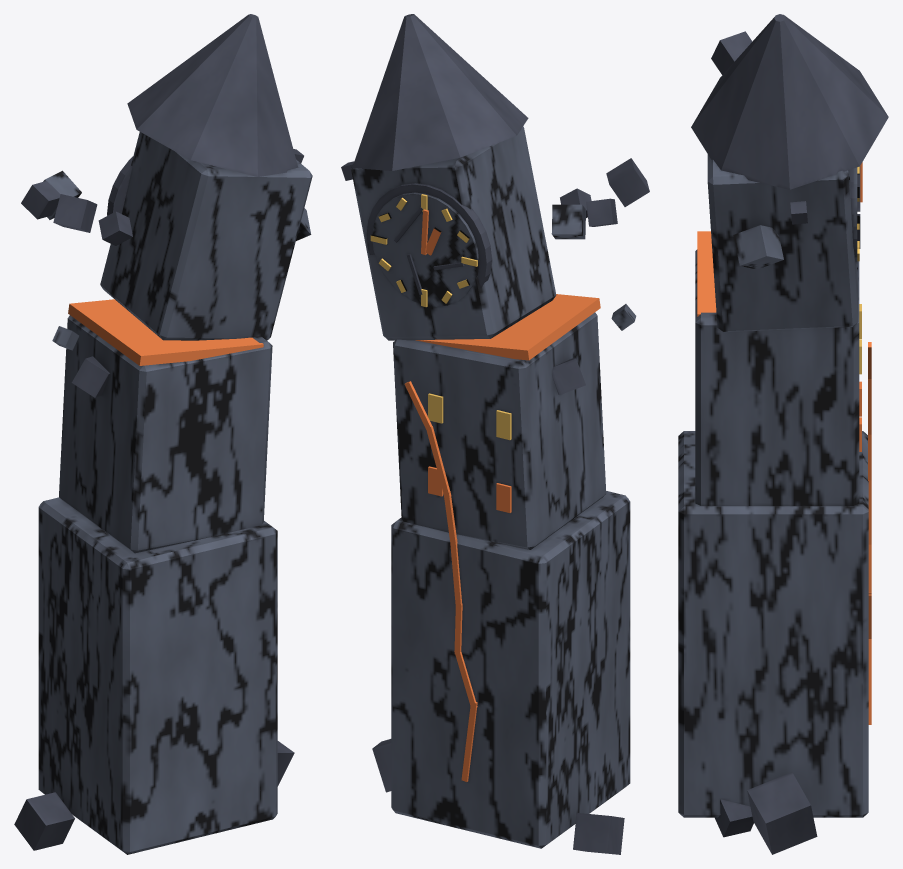
The model's file is BG_Tower_Doom.obj.
3 renders of one model, left to right at view 1: azimuth 30°, elevation 25°; view 2: azimuth 150°, elevation 25°; view 3: azimuth 270°, elevation 25°, orthographic. The views are drawn at different scales.
Visible parts, largest first — view 1: BG_Tower_Doom; view 2: BG_Tower_Doom; view 3: BG_Tower_Doom.
Boxes of the visible parts, bbox=[...] form: BG_Tower_Doom: bbox=[14, 14, 312, 854]; BG_Tower_Doom: bbox=[341, 14, 649, 854]; BG_Tower_Doom: bbox=[678, 14, 888, 854].
Bounding box in the file's own units: 0.3671 × 1 × 0.2273.
Materials: 1 (1 with a texture image).
